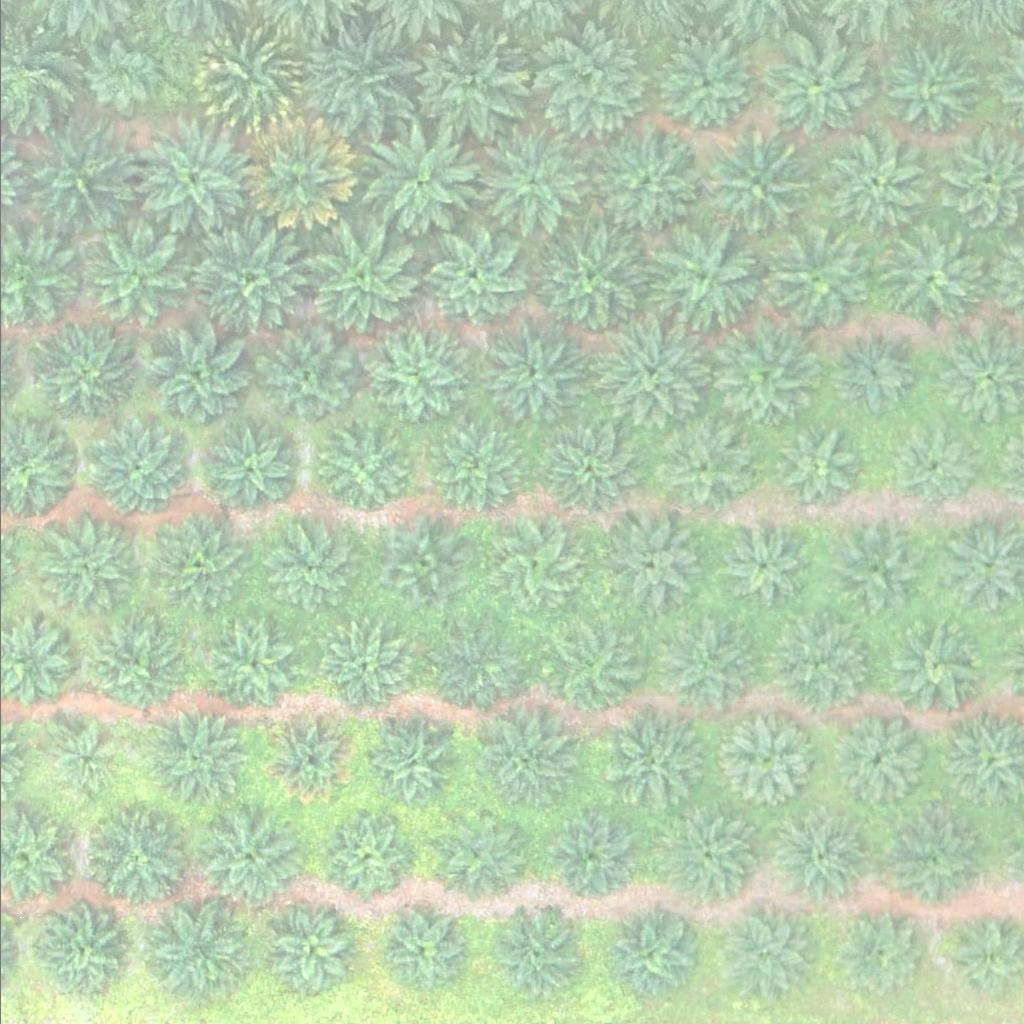Kelapa_Sawit: (533, 27, 646, 140), (419, 30, 532, 143), (301, 29, 414, 142), (646, 220, 759, 333), (594, 318, 707, 431), (474, 321, 587, 434), (73, 222, 186, 335), (240, 118, 353, 231), (191, 20, 304, 133), (139, 120, 252, 233), (21, 117, 134, 230), (759, 32, 872, 144), (820, 127, 933, 239), (693, 134, 806, 246), (587, 127, 700, 239), (468, 127, 581, 239), (362, 124, 475, 236), (528, 227, 641, 339), (304, 228, 417, 340), (191, 221, 304, 333), (874, 229, 975, 329), (880, 36, 981, 136), (654, 38, 755, 138), (420, 228, 521, 328), (425, 420, 526, 520), (826, 520, 927, 620), (773, 615, 874, 715), (652, 620, 753, 720), (713, 711, 814, 811), (602, 710, 703, 810), (469, 711, 570, 811), (768, 813, 869, 913), (657, 806, 758, 906), (598, 905, 699, 1005), (198, 615, 299, 715), (82, 616, 183, 716), (262, 521, 363, 621), (145, 518, 246, 618), (36, 517, 137, 617), (85, 417, 186, 517), (254, 327, 355, 427), (145, 325, 246, 425), (29, 323, 130, 423), (880, 809, 980, 909), (884, 615, 984, 715), (771, 230, 871, 330), (711, 328, 811, 428), (653, 416, 753, 516), (605, 514, 705, 614), (544, 623, 644, 723), (424, 622, 524, 722), (149, 900, 249, 1000), (197, 805, 297, 905), (83, 807, 183, 907), (145, 710, 245, 810), (829, 717, 918, 805), (716, 522, 804, 610), (494, 521, 582, 609), (375, 524, 463, 612), (546, 811, 634, 899), (490, 913, 578, 1001), (376, 909, 464, 997), (266, 910, 354, 998), (319, 624, 407, 712), (369, 333, 457, 420), (545, 428, 633, 515), (434, 815, 522, 902), (836, 911, 924, 998), (721, 911, 809, 998), (362, 720, 450, 807), (29, 910, 117, 997), (323, 812, 411, 899), (265, 716, 353, 803), (316, 424, 404, 511), (201, 427, 289, 514), (41, 722, 117, 797), (833, 338, 909, 413), (780, 432, 856, 507), (84, 38, 160, 113), (889, 427, 964, 502)
